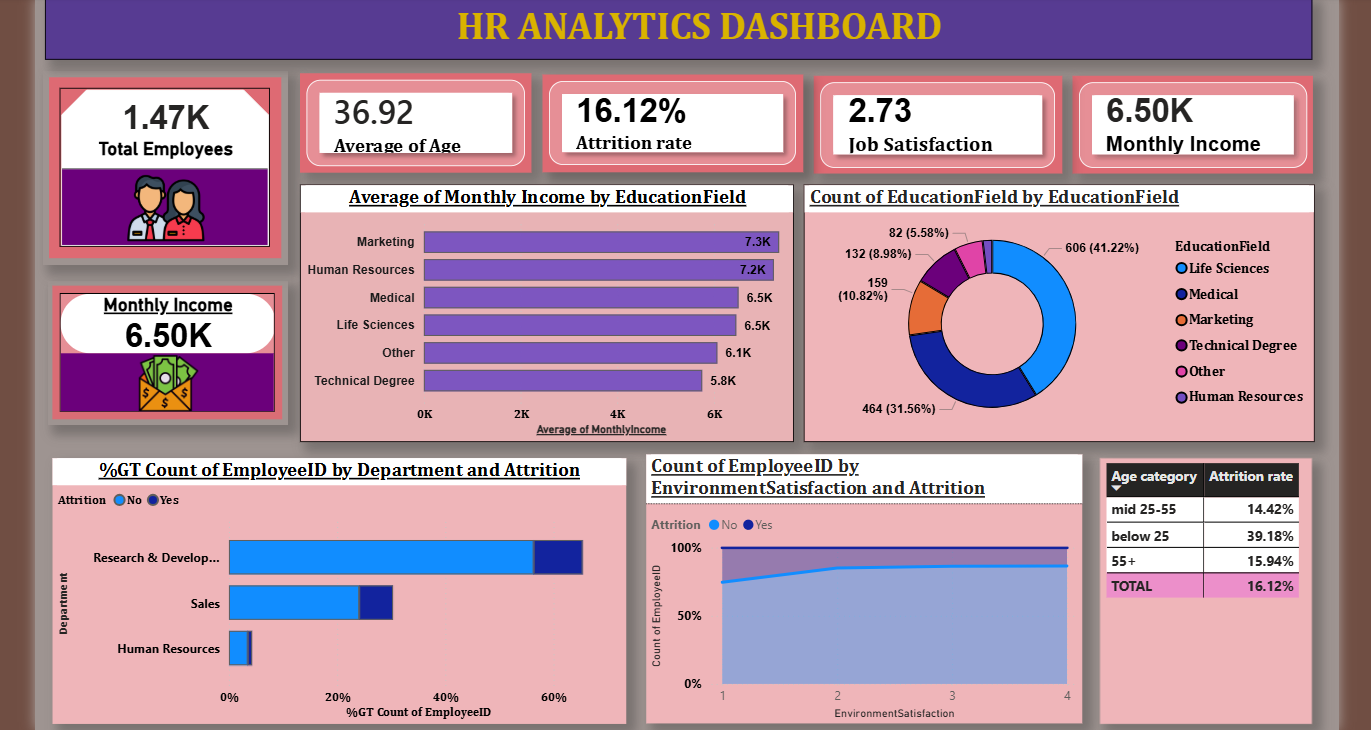

The dashboard page shown, as its layout file describes it:
{"tool":"powerbi","page":{"name":"Page 1","canvas":[1280,720],"ordinal":0},"visuals":[{"type":"textbox","box":[10,0,1244.3,61.4],"z":0},{"type":"cardVisual","fields":{"Data":["CountNonNull(HR Analytics.EmployeeID)"]},"box":[7.1,72.6,240.5,190.5],"z":1000},{"type":"clusteredBarChart","title":"Average of Monthly Income by EducationField","fields":{"Category":["HR Analytics.EducationField"],"Y":["Avg(HR Analytics.MonthlyIncome)"]},"box":[260.1,184.1,484.7,252.8],"z":2000,"group":"g2"},{"type":"cardVisual","fields":{"Data":["Avg(HR Analytics.PerformanceRating)"]},"box":[1628.1,311.6,297.6,125],"z":2000,"group":"g1"},{"type":"cardVisual","fields":{"Data":["Avg(HR Analytics.MonthlyIncome)"]},"box":[11.9,278.6,235.7,141.7],"z":3000},{"type":"cardVisual","fields":{"Data":["Avg(HR Analytics.JobSatisfaction)"]},"box":[1728.1,302.1,197.6,134.5],"z":3000,"group":"g1"},{"type":"cardVisual","fields":{"Data":["HR Analytics.Attrition rate"]},"box":[2101.8,386.5,210.7,125],"z":4000,"group":"g1"},{"type":"barChart","fields":{"Category":["HR Analytics.Department"],"Y":["CountNonNull(HR Analytics.EmployeeID)"],"Series":["HR Analytics.Attrition"]},"box":[16.7,452.4,563.1,260.7],"z":4000,"group":"g3"},{"type":"donutChart","fields":{"Category":["HR Analytics.EducationField"],"Y":["CountNonNull(HR Analytics.EducationField)"]},"box":[754.6,184.1,501.8,252.8],"z":5000,"group":"g2"},{"type":"cardVisual","fields":{"Data":["Avg(HR Analytics.Age)"]},"box":[1680.5,310.4,245.2,126.2],"z":5000,"group":"g1"},{"type":"hundredPercentStackedAreaChart","fields":{"Category":["HR Analytics.EnvironmentSatisfaction"],"Y":["CountNonNull(HR Analytics.EmployeeID)"],"Series":["HR Analytics.Attrition"]},"box":[600,449.1,428.2,263.8],"z":6000,"group":"g3"},{"type":"tableEx","fields":{"Values":["HR Analytics.age category","HR Analytics.Attrition rate"]},"box":[1045.3,452.4,208.3,260.7],"z":7000,"group":"g3"},{"type":"group","id":"g1","title":"Group 1","box":[1628.1,302.1,684.4,209.4],"z":8000},{"type":"cardVisual","fields":{"Data":["Avg(HR Analytics.Age)"]},"box":[260.7,75,227.4,97.6],"z":9000},{"type":"cardVisual","fields":{"Data":["Avg(HR Analytics.MonthlyIncome)"]},"box":[1018.2,76.8,236.2,96.2],"z":10000},{"type":"cardVisual","fields":{"Data":["Avg(HR Analytics.JobSatisfaction)"]},"box":[764.2,76.7,243.8,96.2],"z":11000},{"type":"cardVisual","fields":{"Data":["HR Analytics.Attrition rate"]},"box":[498.3,76.7,255.7,95.7],"z":12000},{"type":"group","id":"g2","title":"Group 2","box":[260.1,184.1,996.3,252.8],"z":12001},{"type":"group","id":"g3","title":"Group 3","box":[16.7,449.1,1236.9,264],"z":12002}]}

Visuals, with their boxes on the page's 1280x720 design canvas (x1, y1, x2, y2). These are canvas units, not pixel positions in the 1371x730 screenshot, which may show the page scaled, cropped or inside an application window:
textbox: (10, 0, 1254, 61)
cardVisual - CountNonNull(HR Analytics.EmployeeID): (7, 73, 248, 263)
"Average of Monthly Income by EducationField" clusteredBarChart: (260, 184, 745, 437)
cardVisual - Avg(HR Analytics.PerformanceRating): (1628, 312, 1926, 437)
cardVisual - Avg(HR Analytics.MonthlyIncome): (12, 279, 248, 420)
cardVisual - Avg(HR Analytics.JobSatisfaction): (1728, 302, 1926, 437)
cardVisual - HR Analytics.Attrition rate: (2102, 386, 2312, 512)
barChart - HR Analytics.Department x CountNonNull(HR Analytics.EmployeeID): (17, 452, 580, 713)
donutChart - HR Analytics.EducationField x CountNonNull(HR Analytics.EducationField): (755, 184, 1256, 437)
cardVisual - Avg(HR Analytics.Age): (1680, 310, 1926, 437)
hundredPercentStackedAreaChart - HR Analytics.EnvironmentSatisfaction x CountNonNull(HR Analytics.EmployeeID): (600, 449, 1028, 713)
tableEx - HR Analytics.age category x HR Analytics.Attrition rate: (1045, 452, 1254, 713)
"Group 1" group: (1628, 302, 2312, 512)
cardVisual - Avg(HR Analytics.Age): (261, 75, 488, 173)
cardVisual - Avg(HR Analytics.MonthlyIncome): (1018, 77, 1254, 173)
cardVisual - Avg(HR Analytics.JobSatisfaction): (764, 77, 1008, 173)
cardVisual - HR Analytics.Attrition rate: (498, 77, 754, 172)
"Group 2" group: (260, 184, 1256, 437)
"Group 3" group: (17, 449, 1254, 713)
